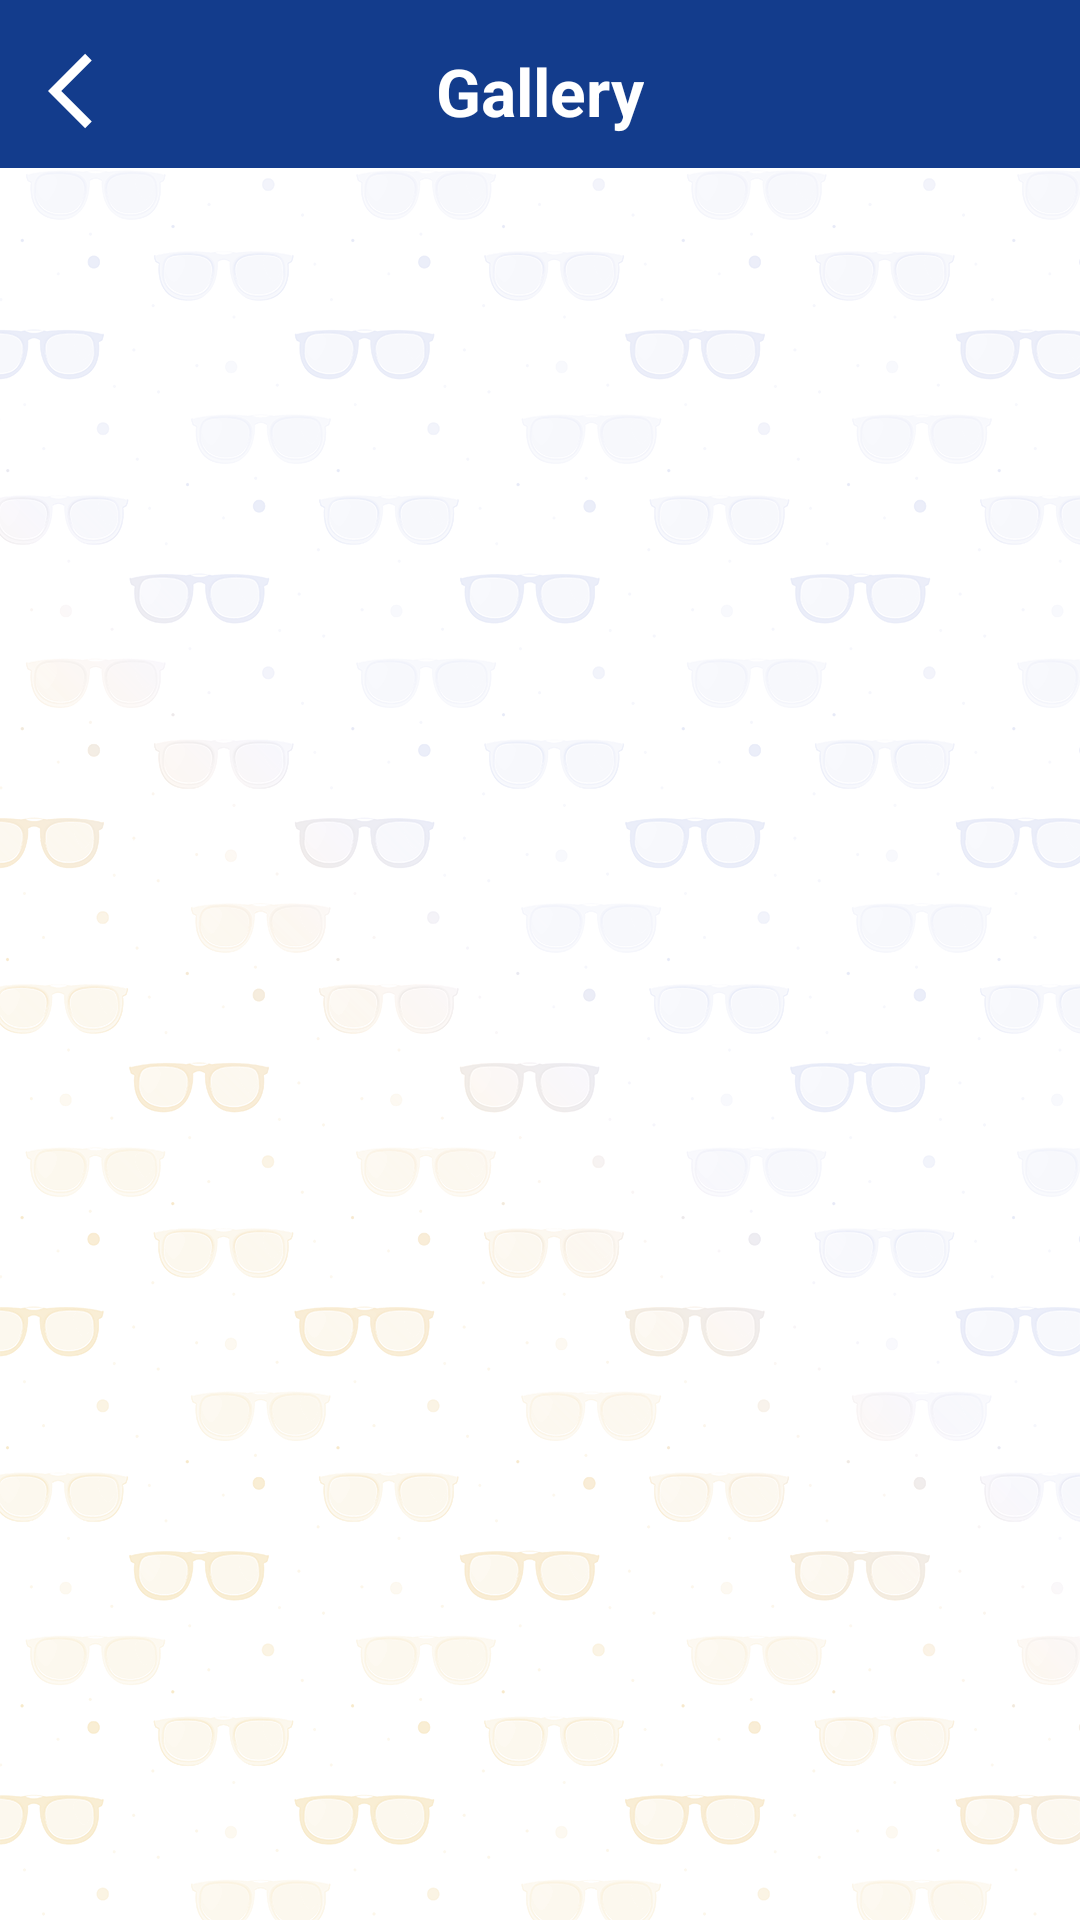

Icon click points for this 1080*1920 phone screenshot, format [x,y]:
Back: [70,91]
